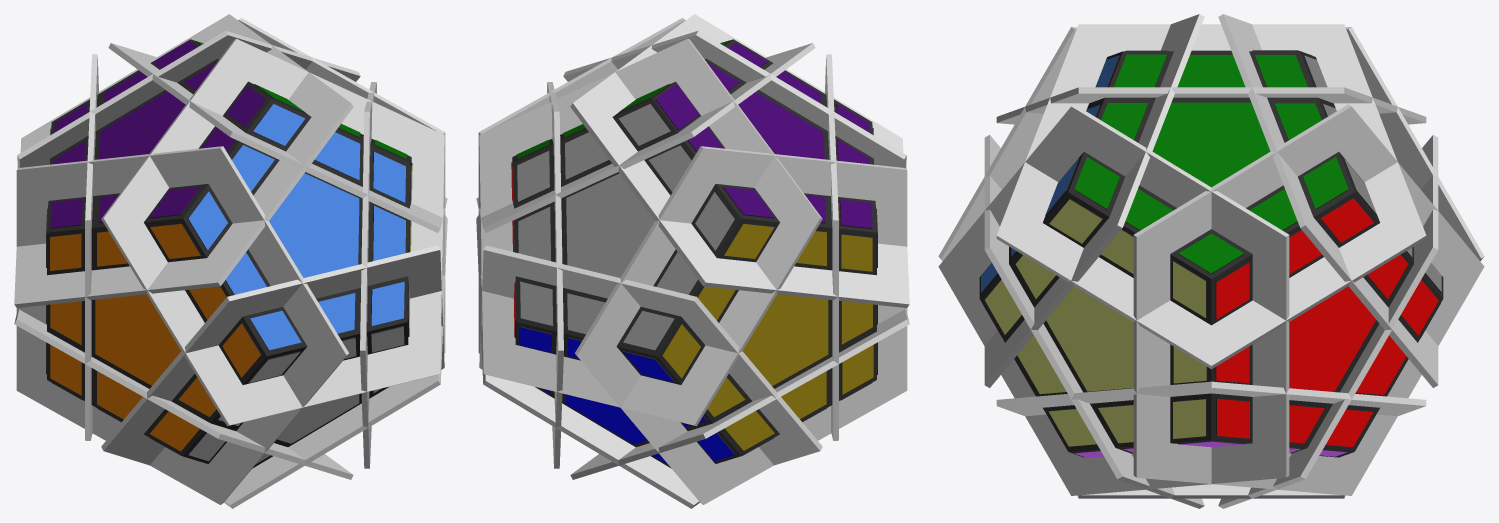
The model's file is megaminx.glb.
The picture shows the model from 3 angles, left to right: view 1: azimuth 30°, elevation 25°; view 2: azimuth 150°, elevation 25°; view 3: azimuth 270°, elevation 25°; orthographic projection. The views are drawn at different scales.
Visible parts, largest first — view 1: plane03, plane12, plane05, plane11, Cube.023, Cube.025, plane01, plane08, Cube.008, Cube.032, plane09, plane10 (+25 smaller); view 2: plane01, plane06, plane05, plane07, Cube.016, Cube.027, plane03, plane08, Cube.012, Cube.061, plane09, plane10 (+25 smaller); view 3: plane09, plane04, plane02, Cube.005, plane03, plane01, Cube.052, Cube.036, Cube.020, plane07, plane11, plane08 (+25 smaller).
Part boxes in pixels (x1,y1,x2,y2): plane03: [101, 39, 444, 426]; plane12: [16, 146, 348, 504]; plane05: [14, 14, 353, 307]; plane11: [101, 245, 444, 465]; Cube.023: [269, 172, 362, 277]; Cube.025: [91, 294, 181, 388]; plane01: [17, 30, 360, 168]; plane08: [224, 215, 447, 508]; Cube.008: [144, 184, 232, 262]; Cube.032: [218, 307, 307, 384]; plane09: [108, 43, 447, 232]; plane10: [14, 309, 353, 479]; plane01: [479, 39, 822, 426]; plane06: [575, 146, 907, 504]; plane05: [570, 14, 909, 307]; plane07: [479, 245, 822, 465]; Cube.016: [561, 172, 654, 277]; Cube.027: [742, 294, 832, 388]; plane03: [563, 30, 906, 168]; plane08: [476, 215, 699, 508]; Cube.012: [691, 184, 779, 262]; Cube.061: [616, 307, 705, 384]; plane09: [476, 43, 815, 232]; plane10: [570, 309, 909, 479]; plane09: [996, 24, 1426, 369]; plane04: [1133, 104, 1484, 495]; plane02: [938, 104, 1289, 495]; Cube.005: [1152, 97, 1270, 187]; plane03: [984, 14, 1204, 387]; plane01: [1218, 14, 1438, 387]; Cube.052: [1289, 286, 1379, 392]; Cube.036: [1043, 286, 1133, 392]; Cube.020: [1170, 229, 1252, 325]; plane07: [1218, 135, 1438, 508]; plane11: [984, 135, 1204, 508]; plane08: [996, 381, 1426, 416].
Size of the model in its own units: 4.4 by 4.4 by 4.4.
